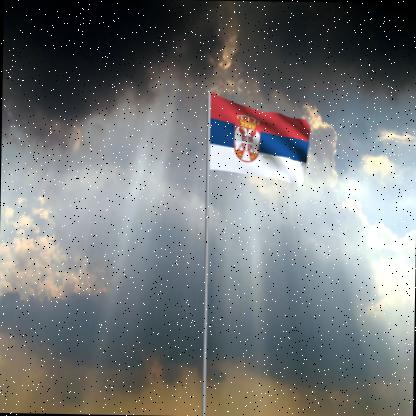rs: (211, 93, 312, 189)
